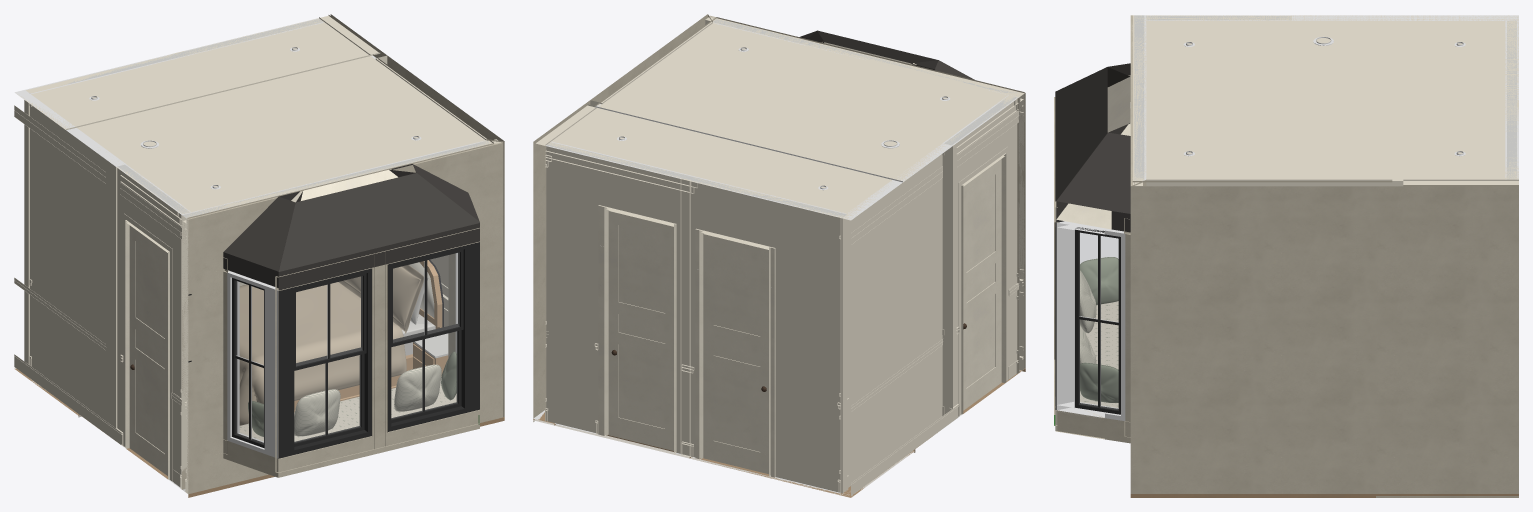
Rendered from loli-bedroom-33b1de5e7a5e.glb.
The picture shows the model from 3 angles, left to right: view 1: azimuth 30°, elevation 25°; view 2: azimuth 150°, elevation 25°; view 3: azimuth 270°, elevation 25°; orthographic projection. The views are drawn at different scales.
Visible parts, largest first — view 1: loli-bedroom-dbd60ee5c3733ed6, loli-bedroom-93447d0fea18c81b, loli-bedroom-6a1144f4e43410bb, loli-bedroom-fd1c2425c72e98e4, loli-bedroom-daa4f3edc919433a, loli-bedroom-4cda501b4aaed82b, loli-bedroom-2575515a05775d9e, loli-bedroom-7cd33252cebb505d, loli-bedroom-527014f532f46c8e, loli-bedroom-cf6d22c5317ced0b, loli-bedroom-75b75731e5e739a5, loli-bedroom-68d06b361ac47823 (+22 smaller); view 2: loli-bedroom-0e637d2be41161fb, loli-bedroom-dbd60ee5c3733ed6, loli-bedroom-6a1144f4e43410bb, loli-bedroom-5b37b110dc0e2cdc, loli-bedroom-eceff908bd344cec, loli-bedroom-2575515a05775d9e, loli-bedroom-68d06b361ac47823, loli-bedroom-cf6d22c5317ced0b, loli-bedroom-319244b3406409d9, loli-bedroom-93447d0fea18c81b, loli-bedroom-d6b1bc8c737b28e2, loli-bedroom-8cbce1d8f2f8a576 (+14 smaller); view 3: loli-bedroom-592bd9af2ed71797, loli-bedroom-dbd60ee5c3733ed6, loli-bedroom-319244b3406409d9, loli-bedroom-2575515a05775d9e, loli-bedroom-53e6a9e479527da3, loli-bedroom-daa4f3edc919433a, loli-bedroom-131a246e00605616, loli-bedroom-d8b729a36612415b, loli-bedroom-93447d0fea18c81b, loli-bedroom-0e637d2be41161fb, loli-bedroom-ad11484878029c25, loli-bedroom-e0a3201bd49c7536 (+9 smaller).
Part boxes in pixels (<box>): loli-bedroom-dbd60ee5c3733ed6: <box>77,54,494,218</box>; loli-bedroom-93447d0fea18c81b: <box>181,140,502,494</box>; loli-bedroom-6a1144f4e43410bb: <box>14,90,125,428</box>; loli-bedroom-fd1c2425c72e98e4: <box>279,268,371,458</box>; loli-bedroom-daa4f3edc919433a: <box>278,169,479,290</box>; loli-bedroom-4cda501b4aaed82b: <box>388,242,479,431</box>; loli-bedroom-2575515a05775d9e: <box>17,15,380,130</box>; loli-bedroom-7cd33252cebb505d: <box>239,282,406,425</box>; loli-bedroom-527014f532f46c8e: <box>227,271,278,458</box>; loli-bedroom-cf6d22c5317ced0b: <box>129,225,167,475</box>; loli-bedroom-75b75731e5e739a5: <box>277,264,478,477</box>; loli-bedroom-68d06b361ac47823: <box>116,164,190,487</box>; loli-bedroom-0e637d2be41161fb: <box>545,141,847,493</box>; loli-bedroom-dbd60ee5c3733ed6: <box>595,17,1024,182</box>; loli-bedroom-6a1144f4e43410bb: <box>842,143,952,495</box>; loli-bedroom-5b37b110dc0e2cdc: <box>703,233,768,474</box>; loli-bedroom-eceff908bd344cec: <box>608,210,673,450</box>; loli-bedroom-2575515a05775d9e: <box>535,104,893,220</box>; loli-bedroom-68d06b361ac47823: <box>942,95,1018,420</box>; loli-bedroom-cf6d22c5317ced0b: <box>963,159,1001,410</box>; loli-bedroom-319244b3406409d9: <box>533,100,600,419</box>; loli-bedroom-93447d0fea18c81b: <box>709,15,1025,372</box>; loli-bedroom-d6b1bc8c737b28e2: <box>695,228,775,477</box>; loli-bedroom-8cbce1d8f2f8a576: <box>961,153,1006,414</box>; loli-bedroom-592bd9af2ed71797: <box>1130,179,1392,493</box>; loli-bedroom-dbd60ee5c3733ed6: <box>1132,15,1403,182</box>; loli-bedroom-319244b3406409d9: <box>1392,179,1518,493</box>; loli-bedroom-2575515a05775d9e: <box>1403,15,1518,186</box>; loli-bedroom-53e6a9e479527da3: <box>1056,221,1125,421</box>; loli-bedroom-daa4f3edc919433a: <box>1055,67,1130,221</box>; loli-bedroom-131a246e00605616: <box>1056,124,1130,232</box>; loli-bedroom-d8b729a36612415b: <box>1055,234,1130,443</box>; loli-bedroom-93447d0fea18c81b: <box>1130,15,1146,185</box>; loli-bedroom-0e637d2be41161fb: <box>1505,20,1518,179</box>; loli-bedroom-ad11484878029c25: <box>1147,177,1391,186</box>; loli-bedroom-e0a3201bd49c7536: <box>1080,301,1118,407</box>.
Bounding box in the file's own units: 3.62 × 3.05 × 4.12.
Materials: 39 (8 with a texture image).
